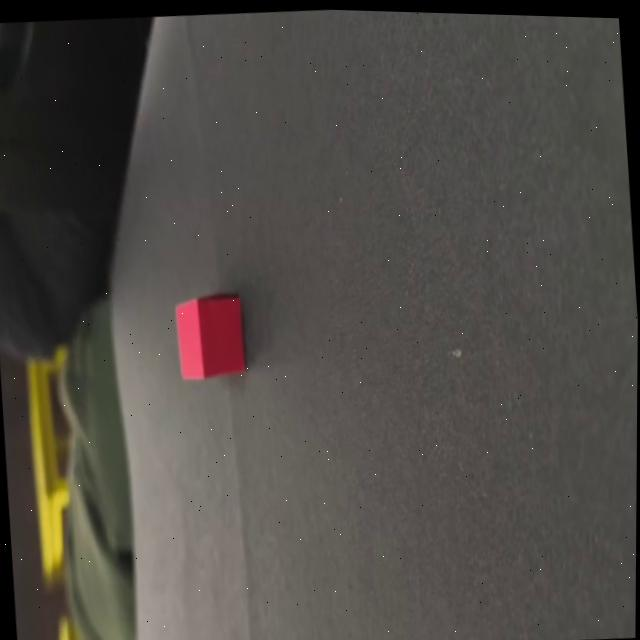red block: (172, 289, 247, 382)
